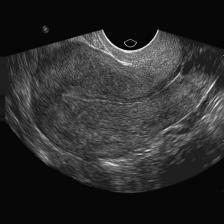no-pcos: (17, 57, 220, 182)
